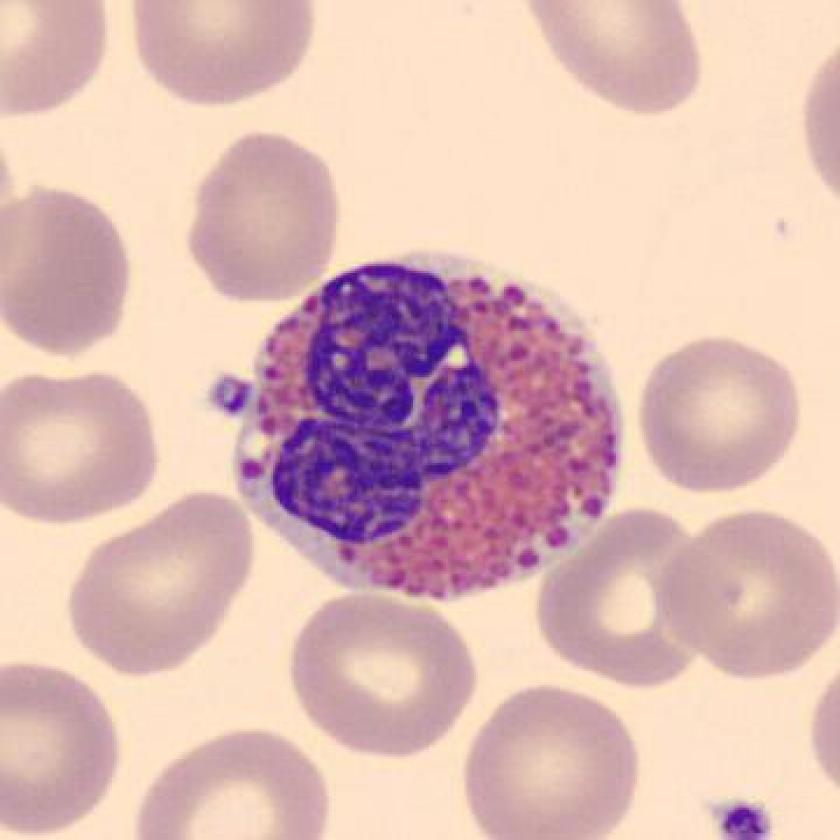eosinophil: (213, 242, 638, 617)
